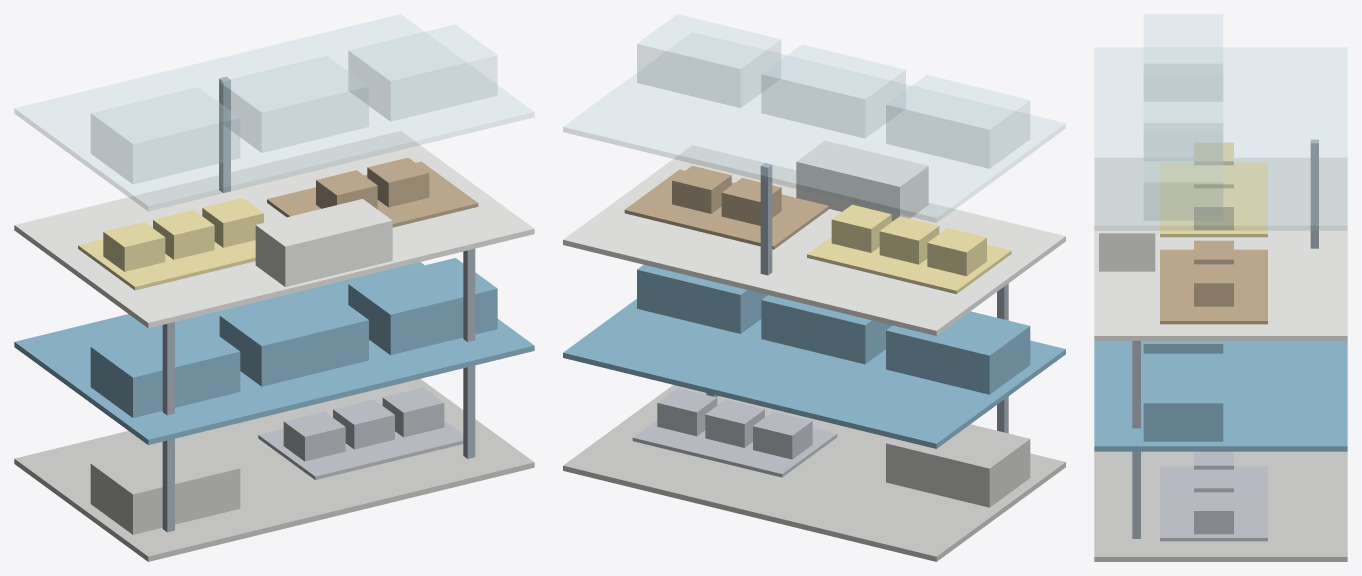
The model's file is flutter-client.glb.
The picture shows the model from 3 angles, left to right: view 1: azimuth 30°, elevation 25°; view 2: azimuth 150°, elevation 25°; view 3: azimuth 270°, elevation 25°; orthographic projection. The views are drawn at different scales.
Visible parts, largest first — view 1: SURFACE PLANE slab, APP STATE PLANE slab, HUB — API SERVER slab, TRANSPORT PLANE slab, Sync status card — push/pull, conflicts, Bag screen — atom list + tag chips, Resolve view — pulled context preview, Offline queue — retry + backoff, REST + SSE endpoints, Hub client — push/pull over HTTP, Auth — device token, Sync controller — pull → merge → push (+16 smaller); view 2: SURFACE PLANE slab, HUB — API SERVER slab, TRANSPORT PLANE slab, APP STATE PLANE slab, Resolve view — pulled context preview, Bag screen — atom list + tag chips, Sync status card — push/pull, conflicts, Hub client — push/pull over HTTP, REST + SSE endpoints, Sync controller — pull → merge → push, Offline queue — retry + backoff, Auth — device token (+12 smaller); view 3: SURFACE PLANE slab, APP STATE PLANE slab, TRANSPORT PLANE slab, HUB — API SERVER slab, Auth — device token, Resolve view — pulled context preview, Sync status card — push/pull, conflicts, Bag screen — atom list + tag chips, replica slab, lattice slab, bag-room slab, Sync controller — pull → merge → push (+12 smaller).
Part boxes in pixels (x1=…): SURFACE PLANE slab: x1=14, y1=14, x2=534, y2=211; APP STATE PLANE slab: x1=14, y1=131, x2=534, y2=328; HUB — API SERVER slab: x1=14, y1=379, x2=534, y2=561; TRANSPORT PLANE slab: x1=14, y1=262, x2=534, y2=444; Sync status card — push/pull, conflicts: x1=348, y1=24, x2=497, y2=121; Bag screen — atom list + tag chips: x1=91, y1=87, x2=239, y2=183; Resolve view — pulled context preview: x1=220, y1=56, x2=368, y2=152; Offline queue — retry + backoff: x1=219, y1=289, x2=368, y2=386; REST + SSE endpoints: x1=90, y1=437, x2=240, y2=534; Hub client — push/pull over HTTP: x1=90, y1=321, x2=240, y2=417; Auth — device token: x1=348, y1=258, x2=497, y2=355; Sync controller — pull → merge → push: x1=255, y1=199, x2=392, y2=286; SURFACE PLANE slab: x1=563, y1=32, x2=1065, y2=222; HUB — API SERVER slab: x1=563, y1=385, x2=1065, y2=561; TRANSPORT PLANE slab: x1=563, y1=299, x2=1065, y2=448; APP STATE PLANE slab: x1=563, y1=145, x2=1065, y2=335; Resolve view — pulled context preview: x1=761, y1=44, x2=905, y2=137; Bag screen — atom list + tag chips: x1=886, y1=75, x2=1029, y2=168; Sync status card — push/pull, conflicts: x1=637, y1=14, x2=780, y2=107; Hub client — push/pull over HTTP: x1=886, y1=311, x2=1030, y2=394; REST + SSE endpoints: x1=886, y1=424, x2=1030, y2=507; Sync controller — pull → merge → push: x1=796, y1=140, x2=928, y2=221; Offline queue — retry + backoff: x1=761, y1=295, x2=892, y2=364; Auth — device token: x1=637, y1=265, x2=767, y2=333; SURFACE PLANE slab: x1=1094, y1=47, x2=1347, y2=230; APP STATE PLANE slab: x1=1094, y1=157, x2=1347, y2=340; TRANSPORT PLANE slab: x1=1094, y1=341, x2=1347, y2=451; HUB — API SERVER slab: x1=1094, y1=451, x2=1347, y2=561; Auth — device token: x1=1143, y1=353, x2=1223, y2=441; Resolve view — pulled context preview: x1=1144, y1=73, x2=1222, y2=160; Sync status card — push/pull, conflicts: x1=1144, y1=133, x2=1222, y2=220; Bag screen — atom list + tag chips: x1=1144, y1=14, x2=1222, y2=100; replica slab: x1=1160, y1=249, x2=1267, y2=324; lattice slab: x1=1160, y1=162, x2=1267, y2=237; bag-room slab: x1=1160, y1=466, x2=1267, y2=541; Sync controller — pull → merge → push: x1=1099, y1=184, x2=1155, y2=271.
Bounding box in the file's own units: 9 × 8.82 × 5.4.
